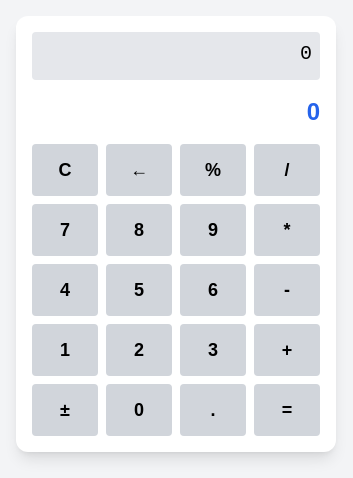
Test: Calculator Component › should handle negate (±)
Click the button "5" at coordinates (139, 290), box [106,264,172,316]
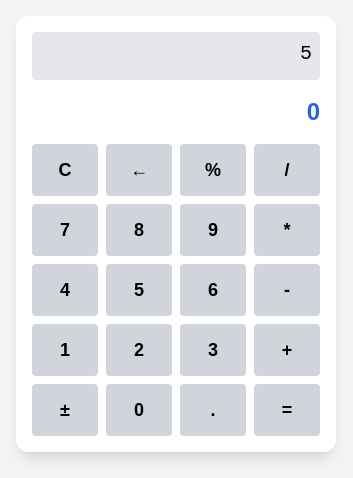
Click the button "±" at coordinates (65, 410), box [32,384,98,436]
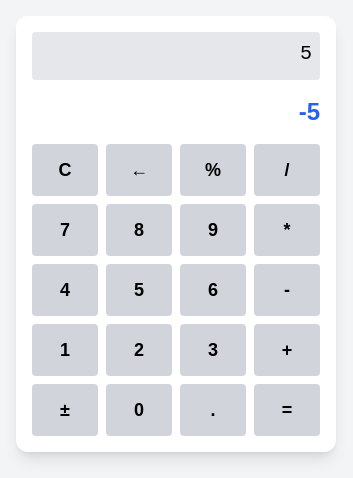
Check: the text "-5" is shown, box [299,98,320,125]
